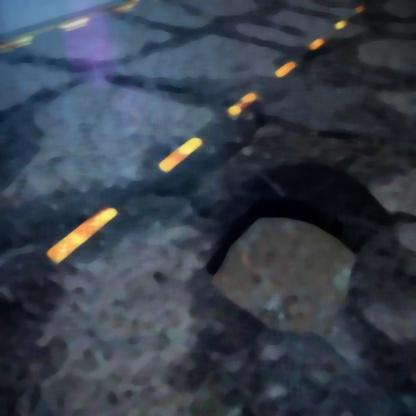Potholes: (209, 207, 344, 335)
